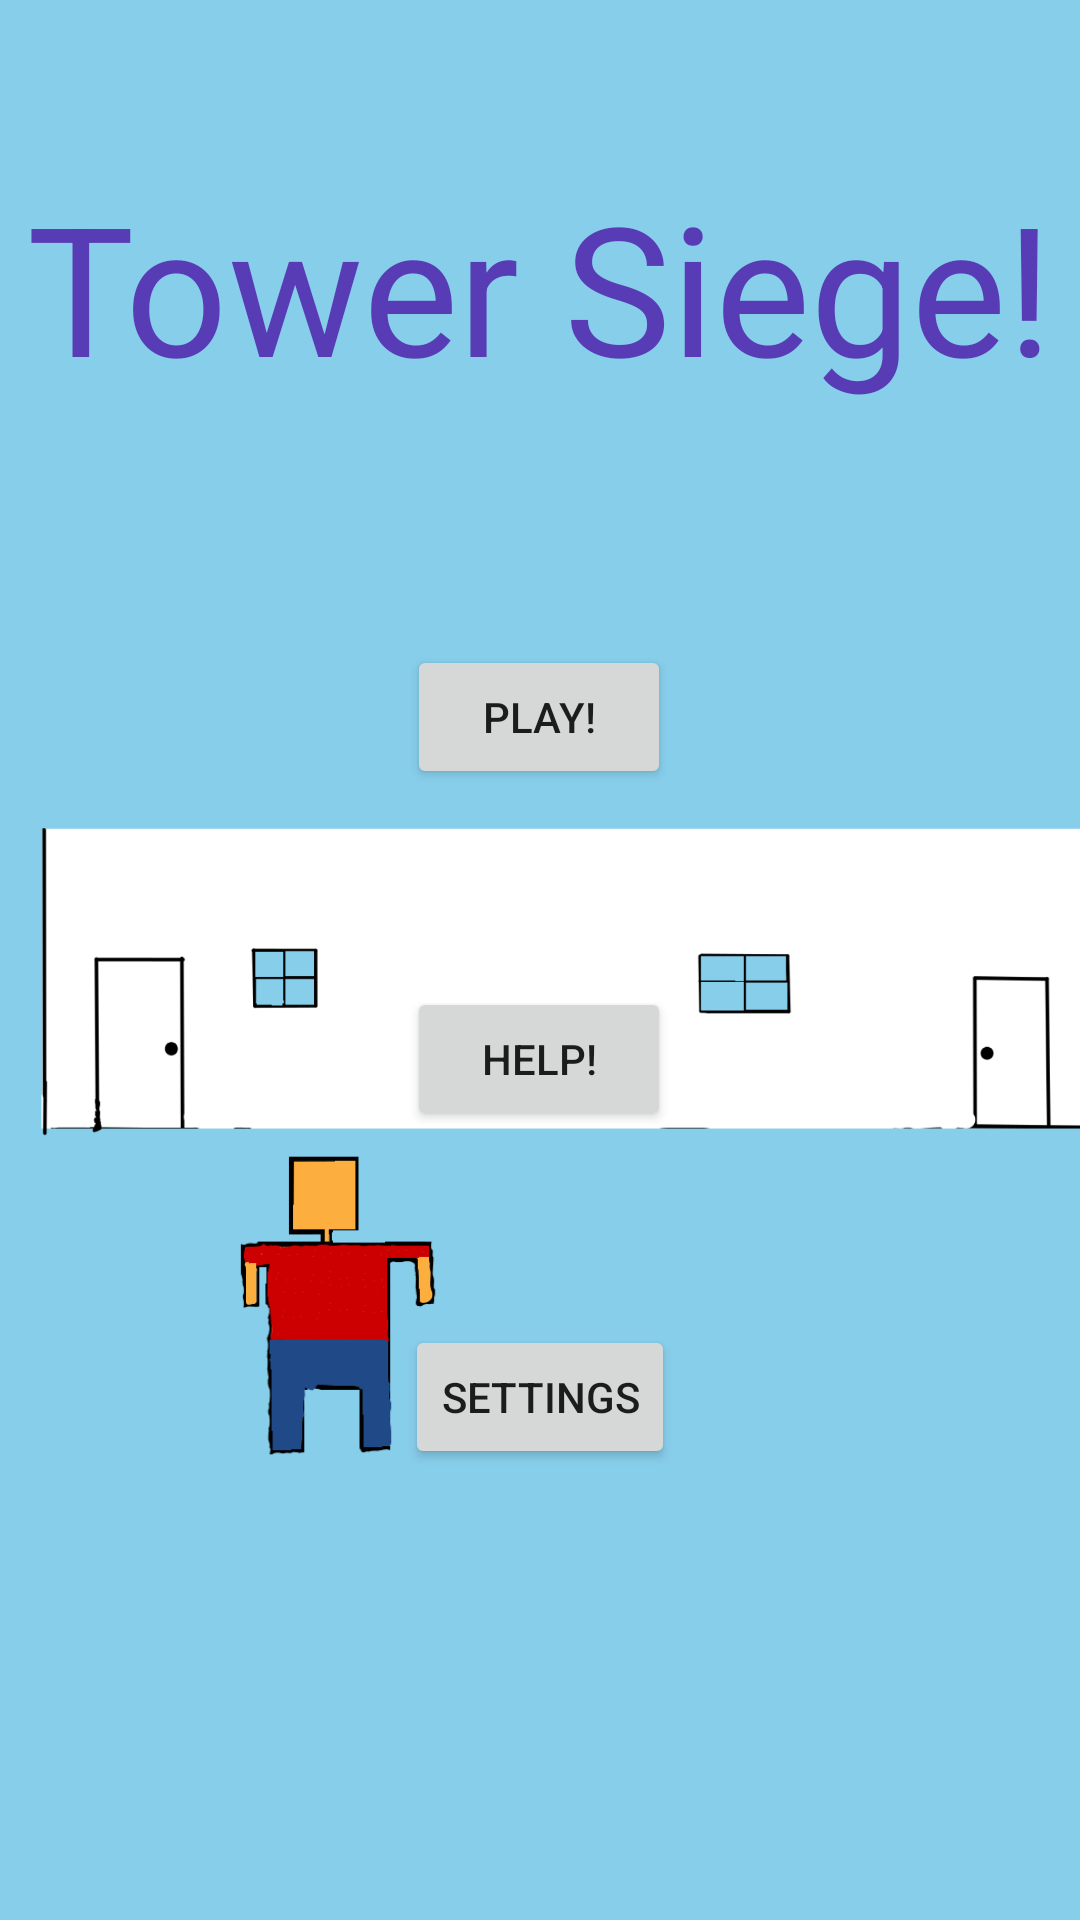

Where icons sit on this 1080x1920 app screen, as box=[x1, y1, x2, y2]:
character: box=[240, 1156, 436, 1455]
